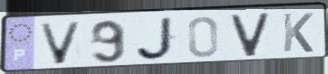0: (186, 15, 220, 59)
9: (89, 19, 127, 65)
J: (134, 16, 178, 62)
K: (281, 11, 315, 54)
V: (37, 20, 85, 66), (228, 11, 273, 59)
